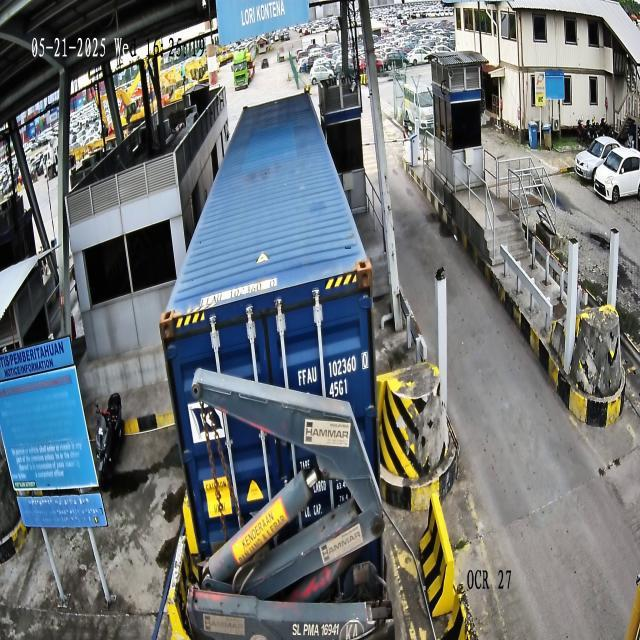ISO: (329, 378, 349, 398)
container_number: (296, 351, 370, 388)
